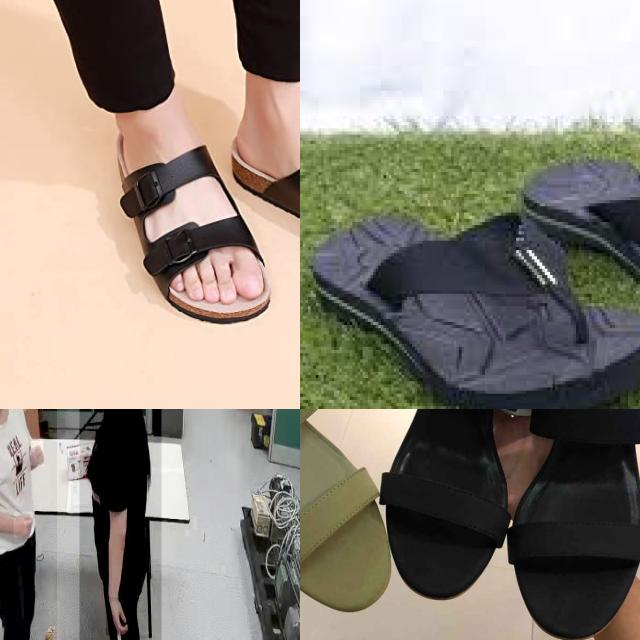Sandals: (300, 99, 640, 409), (349, 409, 640, 640), (100, 87, 268, 326), (300, 409, 399, 640), (239, 74, 300, 290)
hand_noglove: (106, 598, 129, 636), (13, 512, 33, 538), (30, 441, 44, 466)
person: (79, 409, 162, 640), (0, 409, 57, 640)
